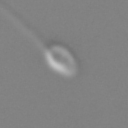normal: (1, 1, 47, 48)
